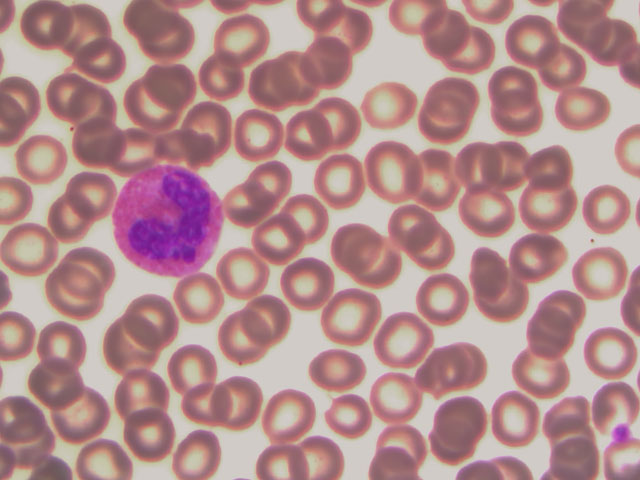Platelets: (612, 419, 630, 441)
RBC: (121, 409, 179, 470), (118, 364, 176, 425), (94, 321, 152, 382), (124, 291, 182, 352), (168, 419, 226, 480), (217, 371, 275, 432), (180, 374, 238, 435), (165, 346, 223, 407), (217, 310, 275, 371), (235, 292, 293, 353), (216, 246, 274, 307), (172, 269, 230, 330), (282, 255, 340, 316), (319, 288, 377, 349), (310, 337, 368, 398), (323, 381, 381, 442), (260, 386, 318, 447), (366, 419, 424, 480), (363, 370, 421, 431), (411, 338, 469, 399), (378, 312, 436, 373), (410, 269, 468, 330), (354, 238, 412, 299), (328, 222, 386, 283), (281, 191, 339, 252), (262, 208, 320, 269), (217, 177, 275, 238), (241, 153, 299, 214), (314, 151, 372, 212), (294, 95, 352, 156), (363, 79, 421, 140), (405, 97, 463, 158), (430, 71, 488, 132), (489, 93, 547, 154), (480, 57, 538, 118), (452, 27, 510, 88), (425, 10, 483, 71), (309, 36, 367, 97), (325, 6, 383, 67), (276, 44, 334, 105), (253, 53, 311, 114), (150, 21, 208, 82), (63, 35, 121, 96), (59, 2, 117, 63), (21, 4, 79, 65), (369, 141, 427, 202), (412, 151, 470, 212), (448, 140, 506, 201), (462, 179, 520, 240), (476, 142, 534, 203), (511, 137, 569, 198), (519, 174, 577, 235), (580, 179, 638, 240), (517, 224, 575, 285), (479, 240, 537, 301), (483, 264, 541, 325), (522, 305, 580, 366), (572, 239, 630, 300), (513, 346, 571, 407), (486, 388, 544, 449), (434, 391, 492, 452), (544, 419, 602, 480), (580, 365, 638, 426), (578, 324, 636, 385), (552, 86, 610, 147), (543, 38, 601, 99), (506, 14, 564, 75), (582, 11, 640, 72), (1, 391, 58, 452), (215, 12, 272, 67), (196, 49, 253, 104), (145, 56, 202, 111), (125, 73, 182, 128), (46, 69, 103, 124), (70, 84, 127, 139), (65, 119, 122, 174), (14, 130, 71, 185), (64, 163, 121, 218), (41, 192, 98, 247), (58, 240, 115, 295), (45, 269, 102, 324), (33, 315, 90, 370), (28, 353, 85, 408), (55, 382, 112, 437), (1, 222, 57, 277)
WBC: (112, 163, 226, 274)
